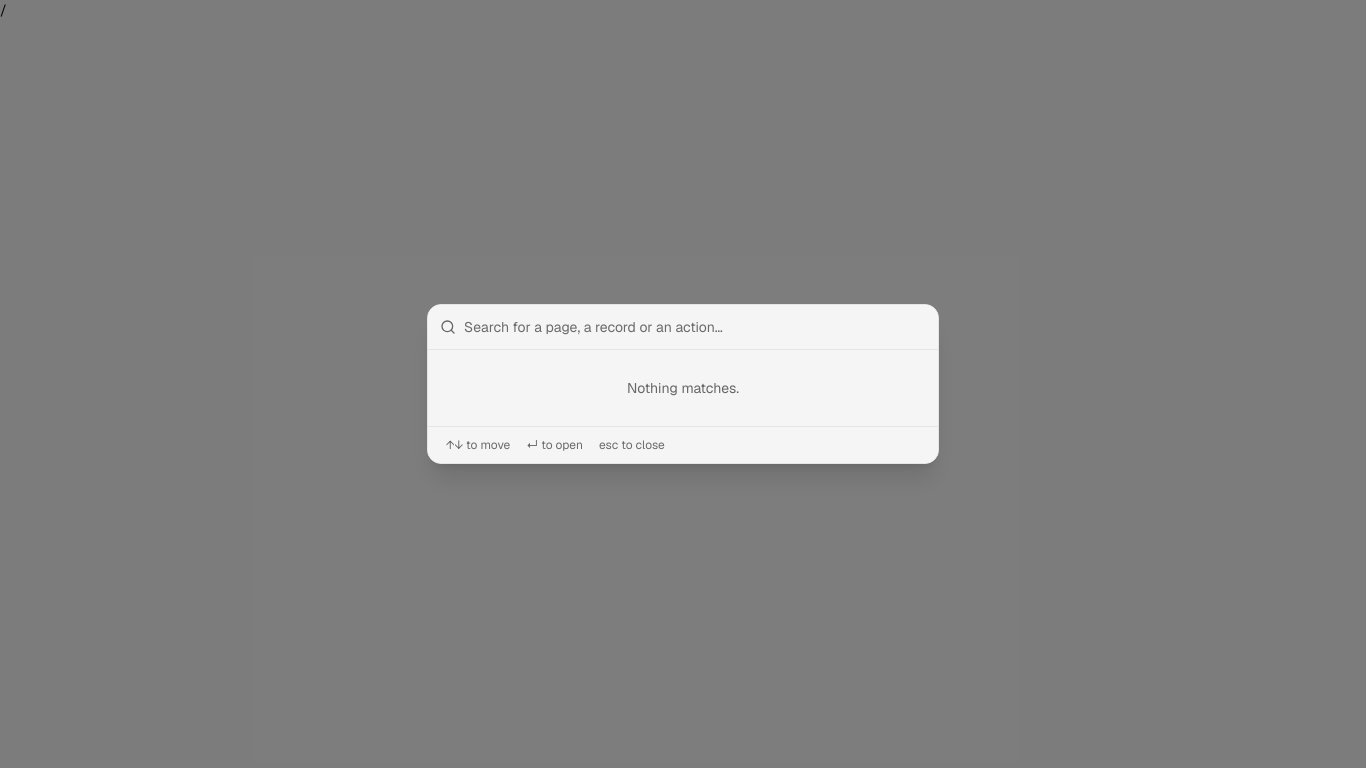
Test: CommandPalette › FR-CRMS-UI-4: finds a person by part of a name or email and opens them
Later steps or results of the test are not shown.
In the dropdown: (695, 327) [464,305,926,349], type "matt@ac"
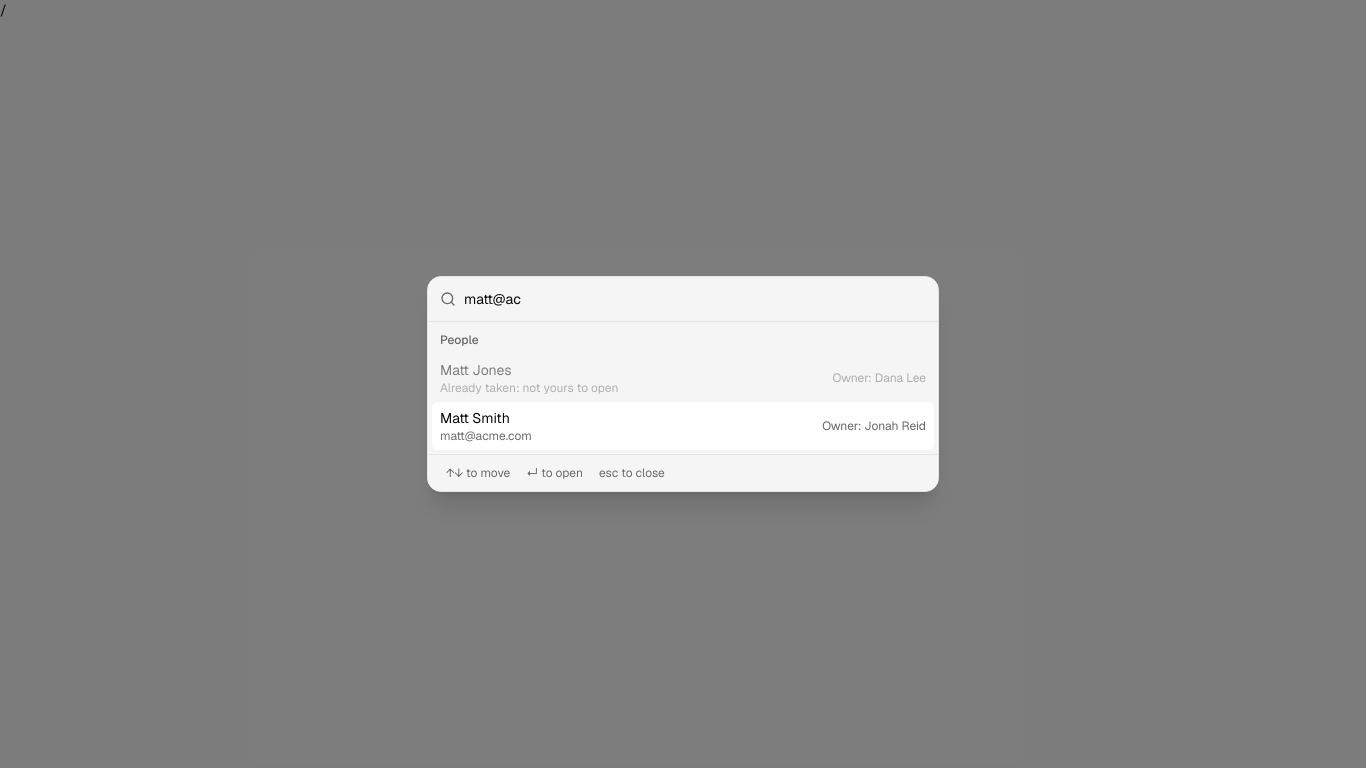
Check: the text "Matt Smith" is shown, box [440,409,510,427]
Check: the text "Owner: Jonah Reid" is shown, box [810,418,926,434]
Check: the text "Owner: Dana Lee" is shown, box [820,370,926,386]
